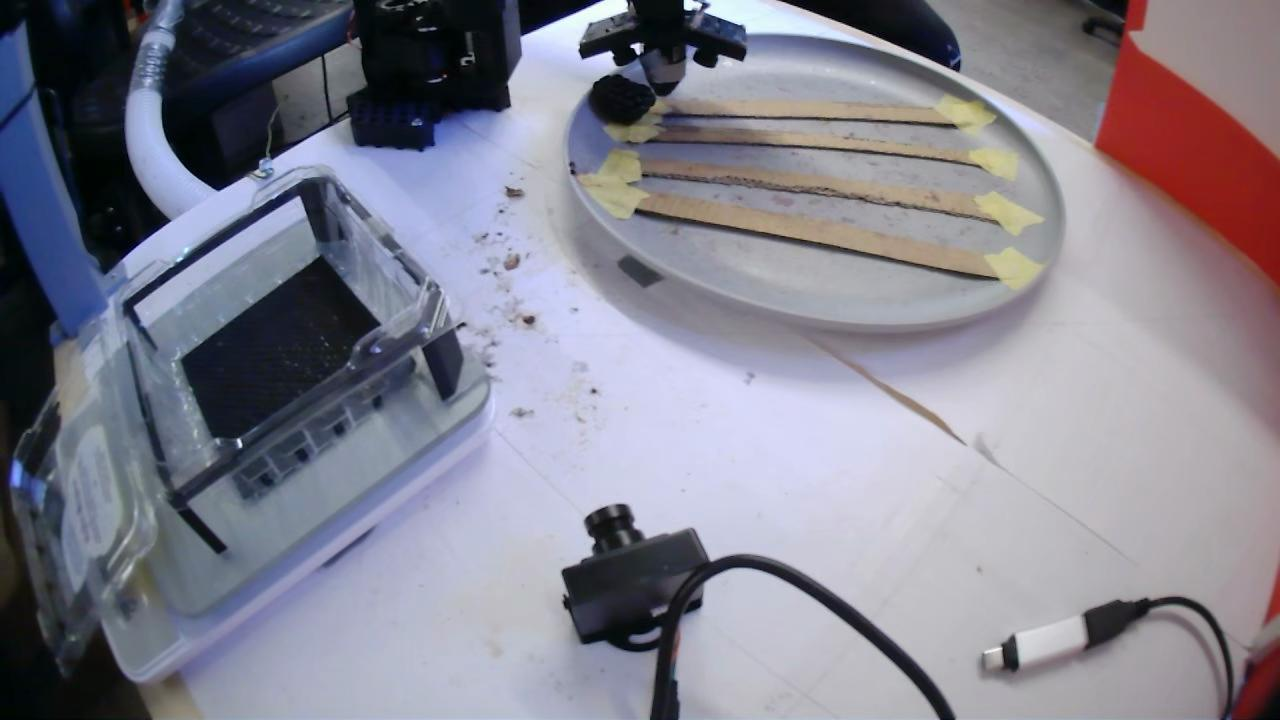berry: (588, 72, 655, 124)
